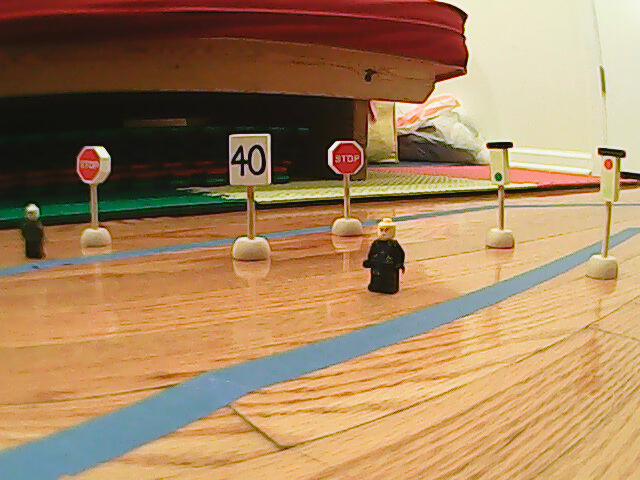Green Traffic Light: (487, 142, 514, 189)
Person: (361, 214, 407, 296), (21, 202, 50, 260)
Red Traffic Light: (597, 145, 625, 206)
Speed Limit 40: (226, 132, 271, 187)
Stop Sign: (327, 138, 366, 177), (73, 144, 110, 185)
